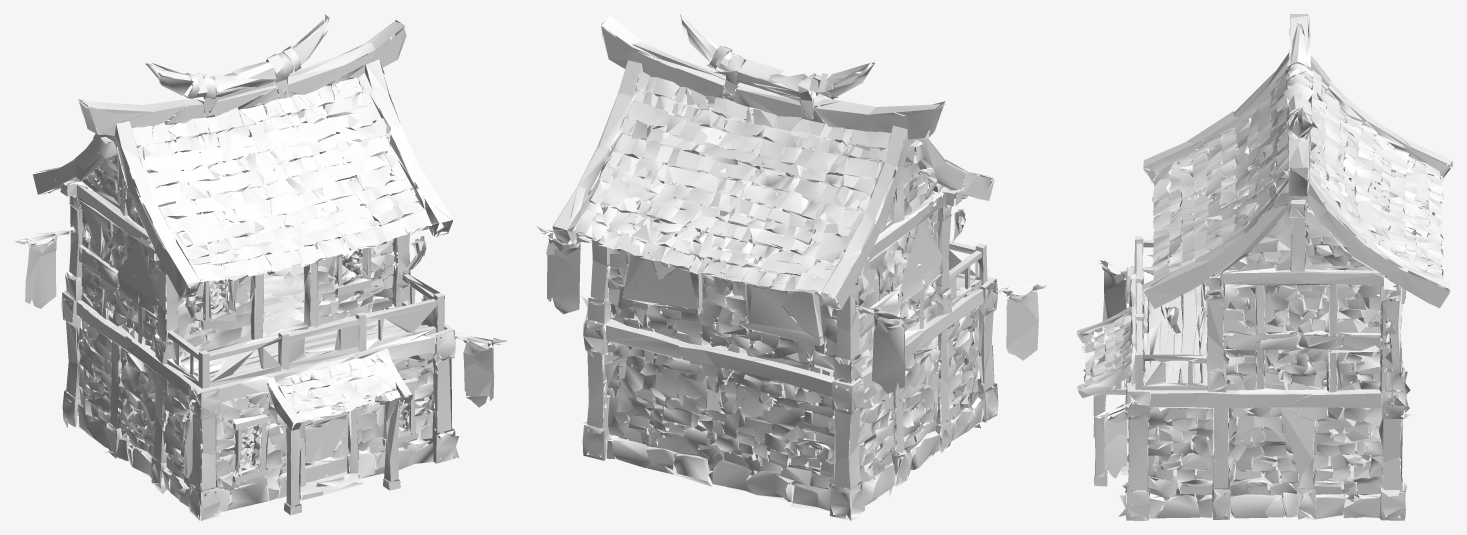
Rendered from house_stone_a_lod1.glb.
3 views of the same model, side by side, from view 1: azimuth 30°, elevation 25°; view 2: azimuth 150°, elevation 25°; view 3: azimuth 270°, elevation 25° (orthographic). The views are drawn at different scales.
Parts seen in each view (by area): view 1: house_stone_a; view 2: house_stone_a; view 3: house_stone_a.
Boxes of the visible parts, x1=… form: house_stone_a: x1=15, y1=14, x2=506, y2=520; house_stone_a: x1=536, y1=14, x2=1046, y2=520; house_stone_a: x1=1076, y1=14, x2=1452, y2=520.
Bounding box in the file's own units: 8.31 × 8.68 × 7.4.
Materials: 1 (1 with a texture image).
